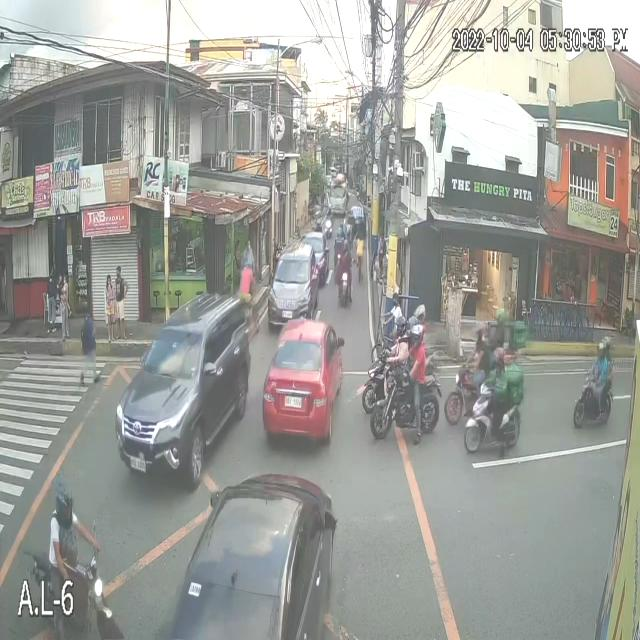Full-Faced: (54, 488, 74, 520), (418, 304, 432, 325), (332, 238, 347, 256), (498, 348, 510, 366), (415, 325, 425, 343), (480, 325, 490, 341), (408, 318, 418, 332), (606, 341, 616, 355), (395, 318, 406, 330)
Half-Faced: (338, 212, 352, 238)
Not-Wearing-Helmet: (355, 227, 364, 248)
